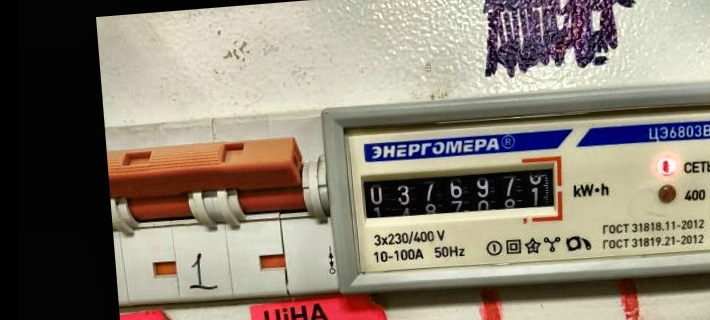0: (368, 182, 385, 205)
1: (530, 184, 541, 207)
3: (396, 182, 411, 204)
6: (448, 174, 465, 198)
7: (422, 177, 438, 201), (502, 171, 518, 195)
9: (475, 174, 491, 197)
screen: (351, 150, 570, 239)
